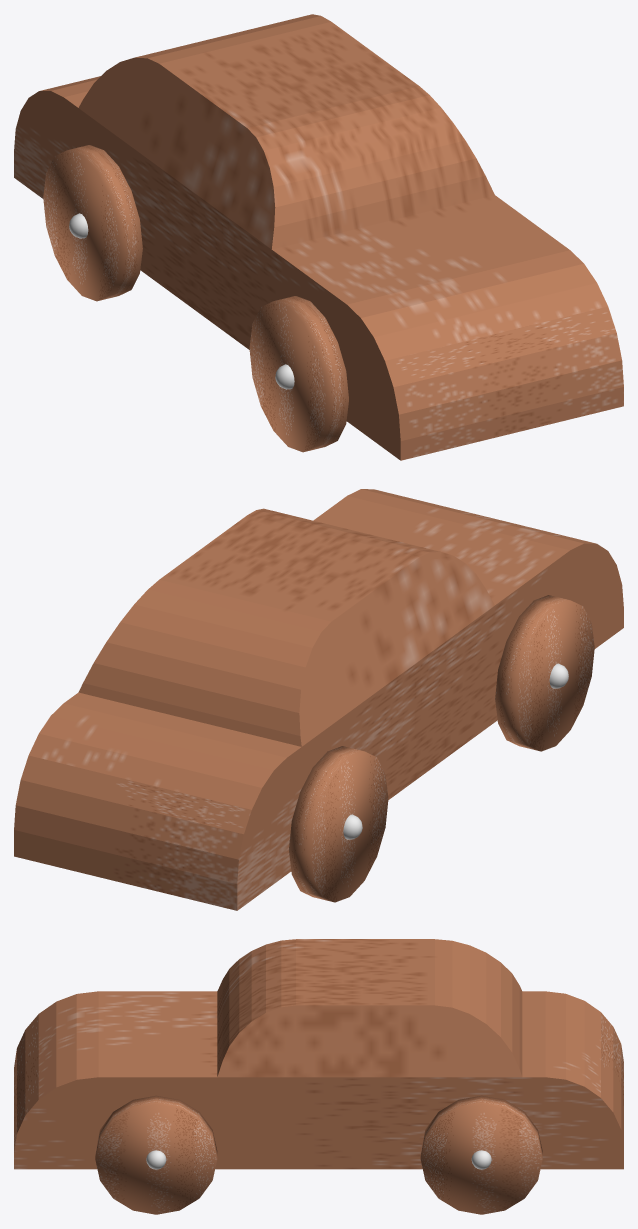
The model's file is UnpaintedToyCar.fbx.
3 renders of one model, top to bottom at view 1: azimuth 30°, elevation 25°; view 2: azimuth 150°, elevation 25°; view 3: azimuth 270°, elevation 25°, orthographic. The views are drawn at different scales.
Visible parts, largest first — view 1: Cylinder.001; view 2: Cylinder.001; view 3: Cylinder.001.
Boxes of the visible parts, <box> form: Cylinder.001: <box>14,14,623,460</box>; Cylinder.001: <box>14,489,623,910</box>; Cylinder.001: <box>14,939,623,1214</box>.
Bounding box in the file's own units: 260 × 207 × 600.
